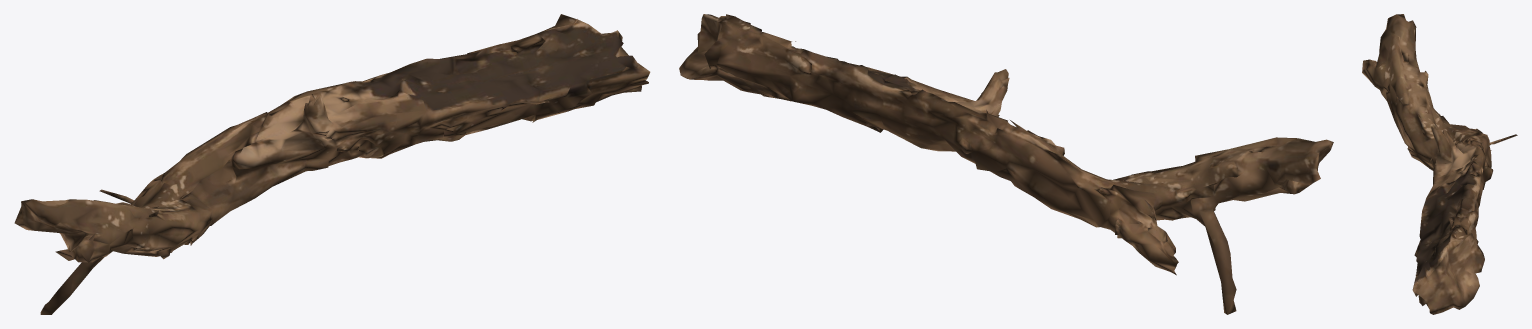
File: tronco_caido.glb
3 renders of one model, left to right at view 1: azimuth 30°, elevation 25°; view 2: azimuth 150°, elevation 25°; view 3: azimuth 270°, elevation 25°, orthographic. The views are drawn at different scales.
Parts seen in each view (by area): view 1: dead_tree_trunk_02; view 2: dead_tree_trunk_02; view 3: dead_tree_trunk_02.
Part boxes in pixels (x1,y1,x2,y2): dead_tree_trunk_02: (14,14,650,314); dead_tree_trunk_02: (679,14,1333,314); dead_tree_trunk_02: (1362,14,1517,314).
Size of the model in its own units: 4.05 by 1.05 by 1.05.
1 material, 1 textured.
